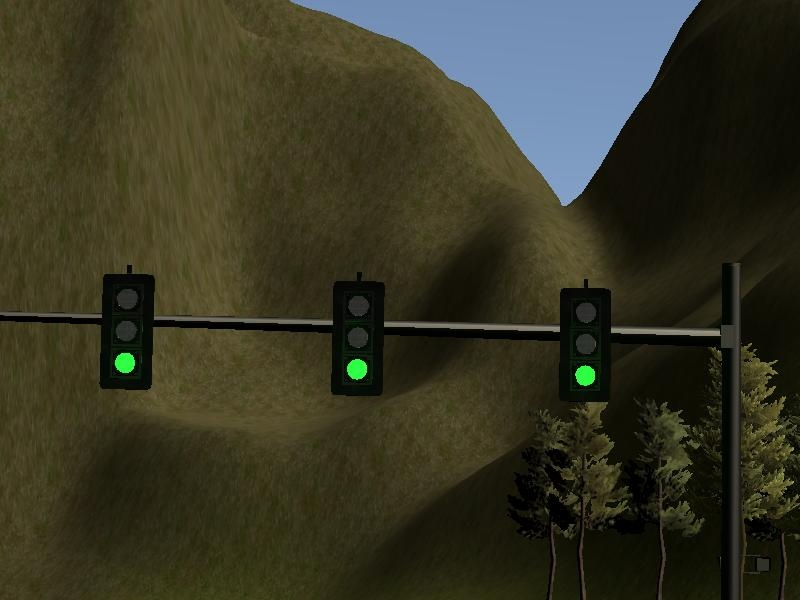traffic_light_green: (1, 264, 711, 405)
